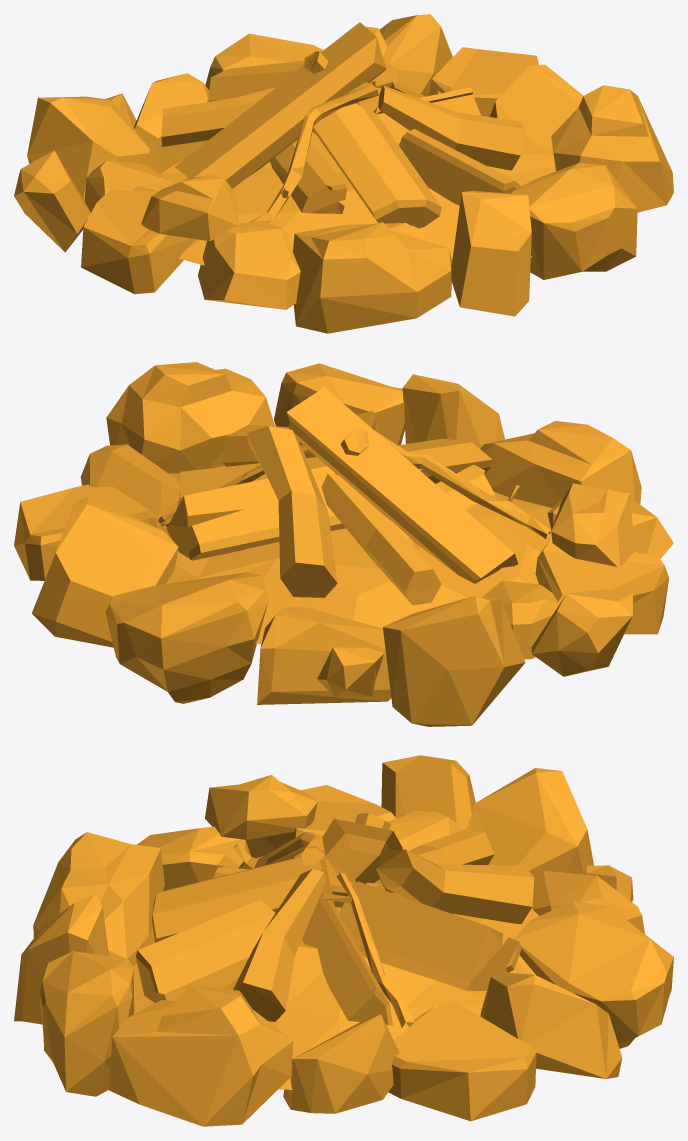
The model's file is campfire.glb.
The picture shows the model from 3 angles, top to bottom: view 1: azimuth 30°, elevation 25°; view 2: azimuth 150°, elevation 25°; view 3: azimuth 270°, elevation 25°; orthographic projection. The views are drawn at different scales.
Parts seen in each view (by area): view 1: campfire-base-fantasy, campfire-wood-fantasy; view 2: campfire-base-fantasy, campfire-wood-fantasy; view 3: campfire-base-fantasy, campfire-wood-fantasy.
Part boxes in pixels (x1,y1,x2,y2): campfire-base-fantasy: (14,14,673,333); campfire-wood-fantasy: (161,22,525,228); campfire-base-fantasy: (14,362,673,726); campfire-wood-fantasy: (158,387,550,605); campfire-base-fantasy: (14,755,673,1126); campfire-wood-fantasy: (136,813,534,1029).
Bounding box in the file's own units: 1.14 × 0.4005 × 1.02.
